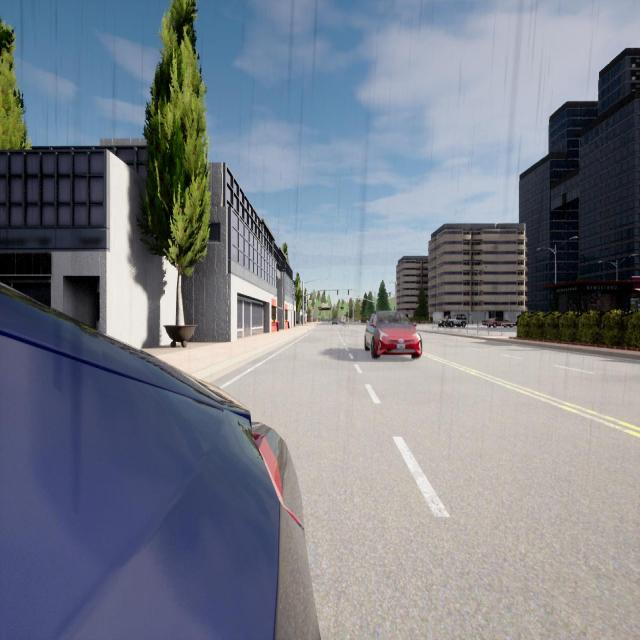Vehicle: (1, 284, 320, 640), (364, 311, 422, 358), (482, 317, 516, 328), (447, 313, 467, 328), (438, 315, 449, 328), (332, 318, 338, 325)
traffic_light: (348, 289, 349, 295), (324, 290, 325, 295), (337, 290, 338, 295), (390, 292, 390, 297)
